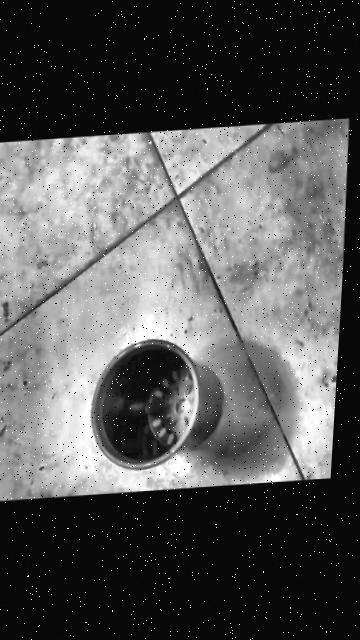pot: (85, 334, 226, 473)
